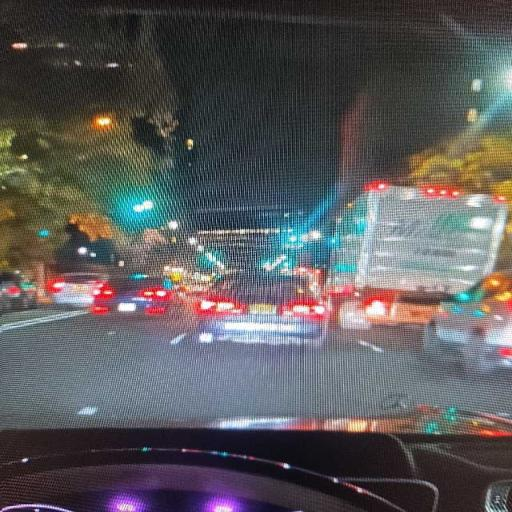car: (192, 271, 327, 344), (423, 272, 511, 374), (91, 277, 175, 315), (47, 273, 107, 307), (0, 271, 36, 310)
lane: (0, 316, 511, 427), (0, 306, 87, 328)
truck: (326, 182, 507, 328)
